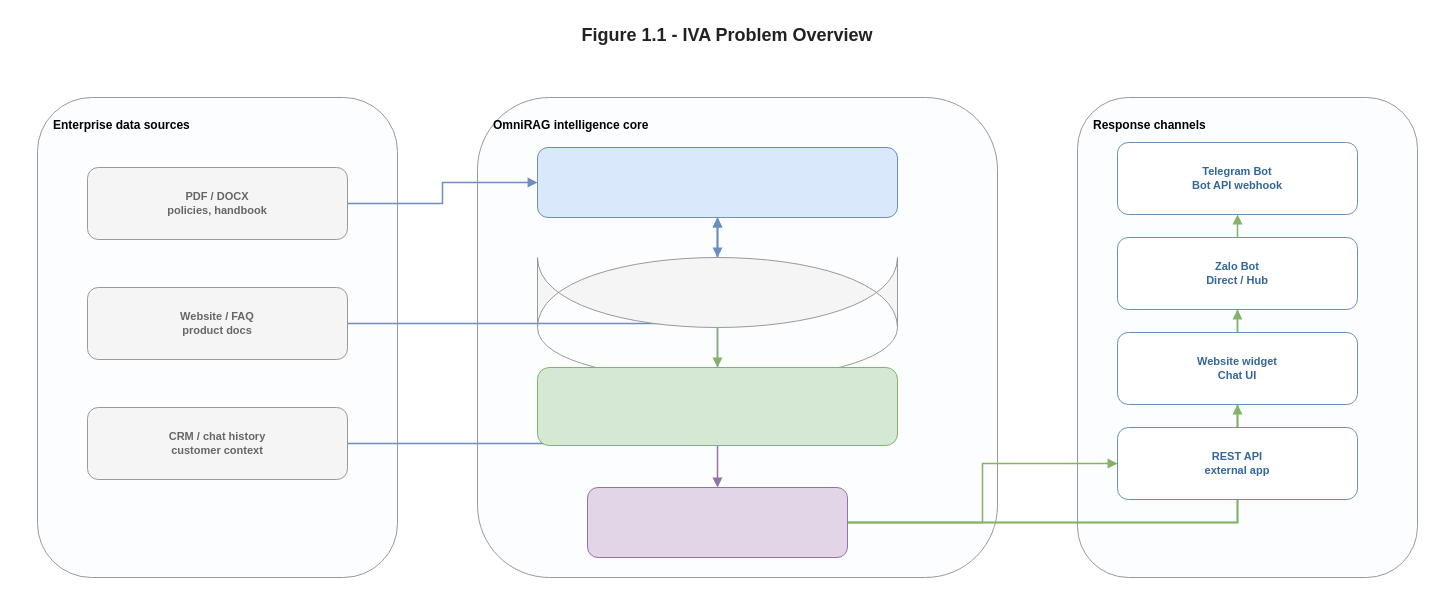
This 1454x595 diagram has some shape labels left out. Each missing label, with the centre of its shape:
"Document ingestion OpenDataLoader fallback" goes at point (717, 182).
"Hybrid RAG + CRAG rerank, classify, cite" goes at point (717, 406).
"OpenRouter LLM answer generation" goes at point (717, 522).
"Vector + full-text index Qdrant collections" goes at point (717, 292).
